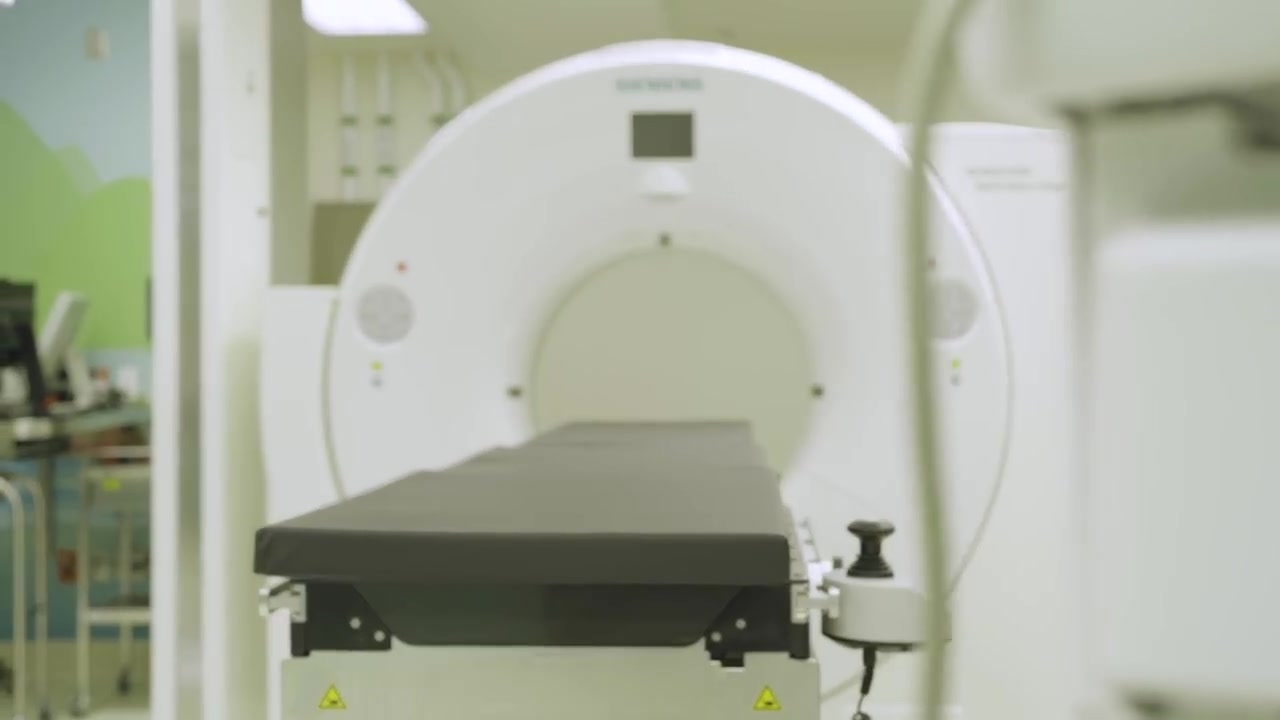xray_bed: (253, 421, 806, 716)
xray_machine: (320, 40, 1014, 561)
